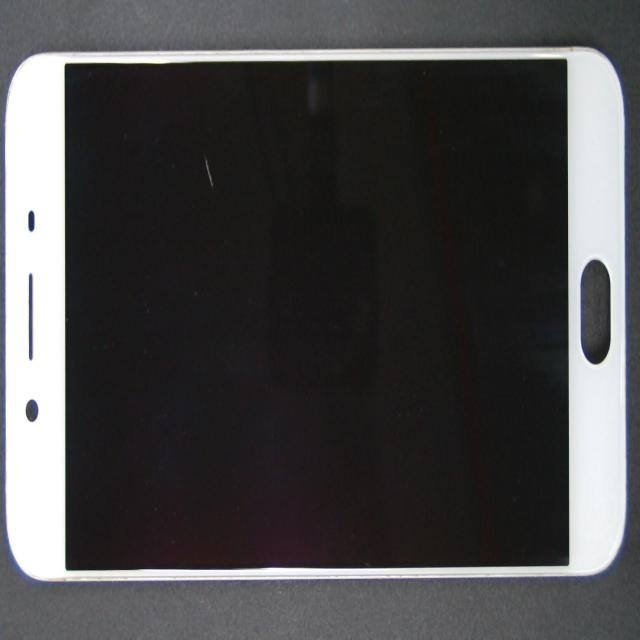scratch: (128, 115, 327, 249)
